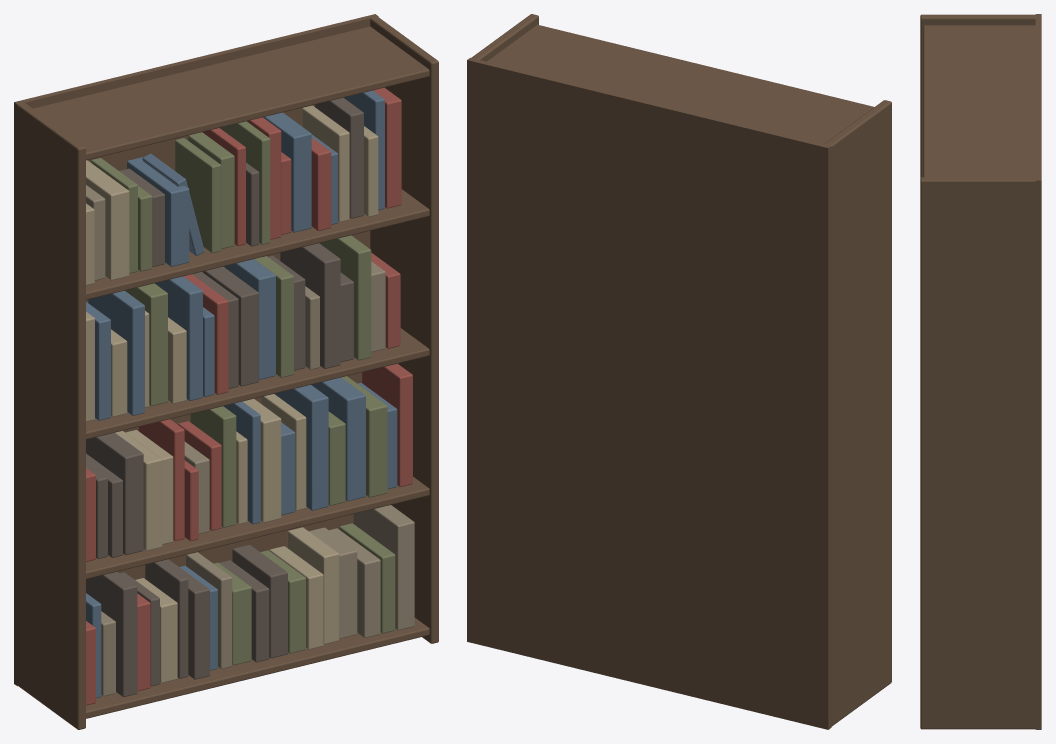
File: shelf.glb
The picture shows the model from 3 angles, left to right: view 1: azimuth 30°, elevation 25°; view 2: azimuth 150°, elevation 25°; view 3: azimuth 270°, elevation 25°; orthographic projection. The views are drawn at different scales.
Parts seen in each view (by area): view 1: side_l, board.004, side_r, back, board.003, board.002, board, board.001, book.059, book.020, book.003, book.024 (+81 smaller); view 2: back, side_l, board.004, side_r; view 3: side_r, board.004, back, side_l.
Boxes of the visible parts, x1,y1,x2,y2 form: side_l: (15,101,85,729); board.004: (33,26,429,160); side_r: (370,15,438,643); back: (14,14,378,686); board.003: (86,189,429,299); board.002: (86,328,429,439); board: (86,618,429,718); board.001: (86,477,429,579); book.059: (280,243,340,368); book.020: (353,505,414,630); book.003: (86,571,137,697); book.024: (86,432,143,555); back: (467,57,831,729); side_l: (821,100,891,727); board.004: (487,24,873,143); side_r: (468,14,538,640); side_r: (920,177,1039,729); board.004: (923,25,1035,177); back: (1035,14,1041,729); side_l: (920,14,1038,177).
Bounding box in the file's own units: 1.3 × 2 × 0.4.
